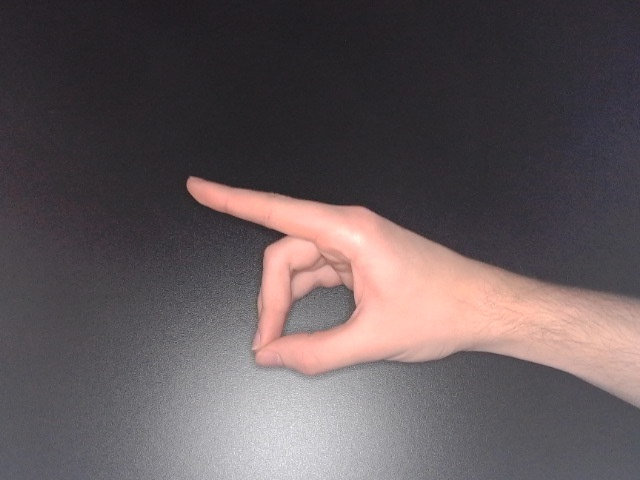p: (183, 173, 523, 381)
